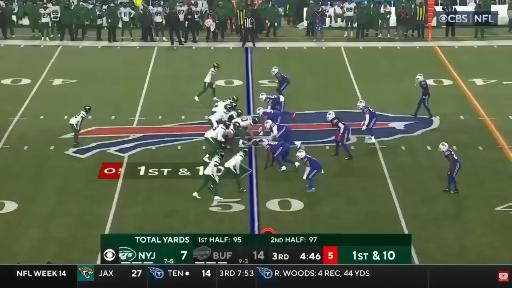Helmet: (438, 142, 449, 152), (264, 120, 273, 130), (296, 150, 305, 159), (222, 121, 231, 129), (357, 100, 365, 109), (83, 105, 91, 114), (235, 109, 243, 117), (327, 112, 335, 120), (216, 150, 224, 158), (416, 74, 424, 82), (259, 93, 266, 101), (261, 139, 269, 146), (256, 107, 263, 115), (213, 62, 220, 70), (271, 67, 278, 75), (231, 96, 238, 102), (252, 117, 258, 124), (243, 149, 248, 155)
Jersey: (331, 117, 350, 144), (224, 152, 245, 173), (270, 123, 291, 143), (204, 156, 220, 179), (69, 111, 86, 130), (205, 126, 226, 141), (331, 117, 350, 133), (303, 155, 322, 170), (266, 142, 289, 154), (232, 116, 253, 128), (212, 100, 232, 112), (262, 110, 282, 122), (265, 96, 283, 109), (209, 110, 227, 122), (119, 7, 134, 21), (445, 149, 459, 164), (362, 106, 376, 121), (275, 72, 289, 86), (270, 123, 285, 136), (343, 2, 356, 16), (204, 68, 216, 83), (419, 80, 429, 97), (152, 7, 163, 22), (225, 111, 238, 123), (50, 6, 60, 21), (177, 6, 187, 21), (40, 9, 50, 22), (192, 7, 201, 20), (96, 10, 103, 24), (102, 5, 107, 12)
Player: (193, 150, 224, 199), (262, 139, 299, 171), (327, 112, 352, 159), (296, 150, 323, 192), (203, 122, 230, 161), (439, 143, 460, 193), (223, 149, 247, 192), (264, 120, 300, 147), (411, 74, 432, 118), (195, 63, 219, 101), (69, 106, 91, 147), (260, 93, 295, 118), (357, 100, 377, 143), (232, 116, 258, 146), (118, 3, 134, 41), (152, 0, 166, 41), (208, 105, 232, 127), (272, 67, 290, 95), (343, 0, 356, 37), (212, 96, 238, 113), (49, 0, 60, 37), (257, 107, 282, 123), (39, 4, 50, 40), (257, 108, 282, 123), (226, 109, 243, 122)
